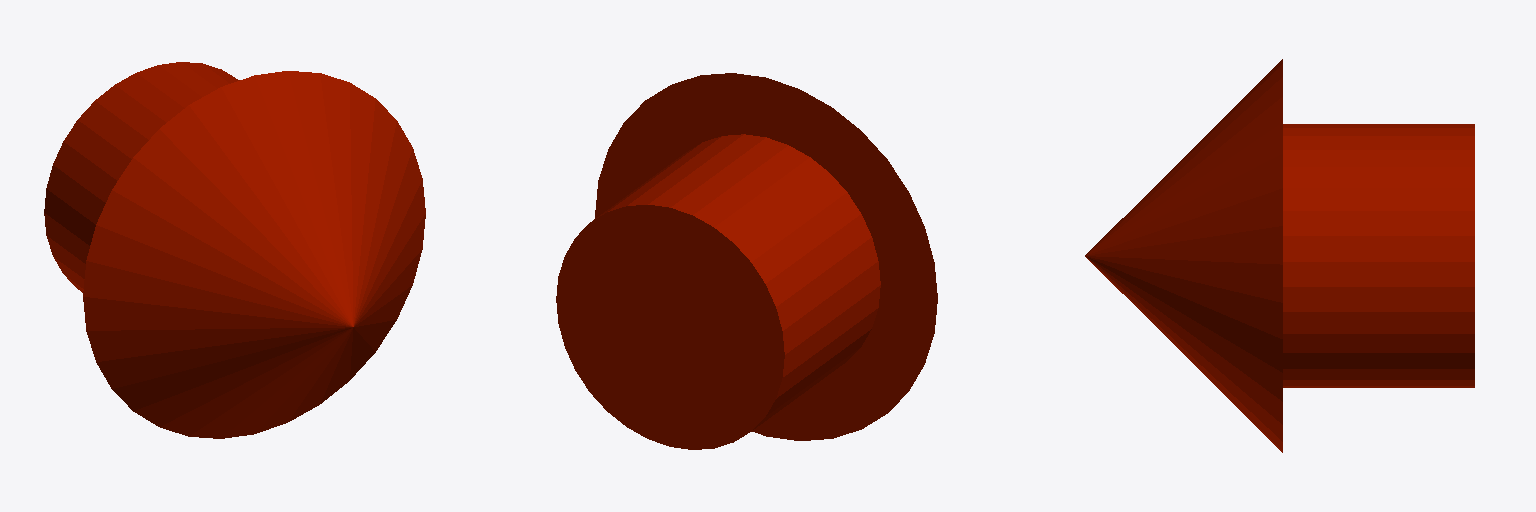
File: bomb.obj
3 views of the same model, side by side, from view 1: azimuth 30°, elevation 25°; view 2: azimuth 150°, elevation 25°; view 3: azimuth 270°, elevation 25° (orthographic).
Parts seen in each view (by area): view 1: Cone; view 2: Cone; view 3: Cone.
Part boxes in pixels (x1,y1,x2,y2): Cone: (44, 62, 425, 438); Cone: (556, 73, 937, 449); Cone: (1085, 59, 1474, 452).
Bounding box in the file's own units: 1.6 × 1.6 × 1.58.